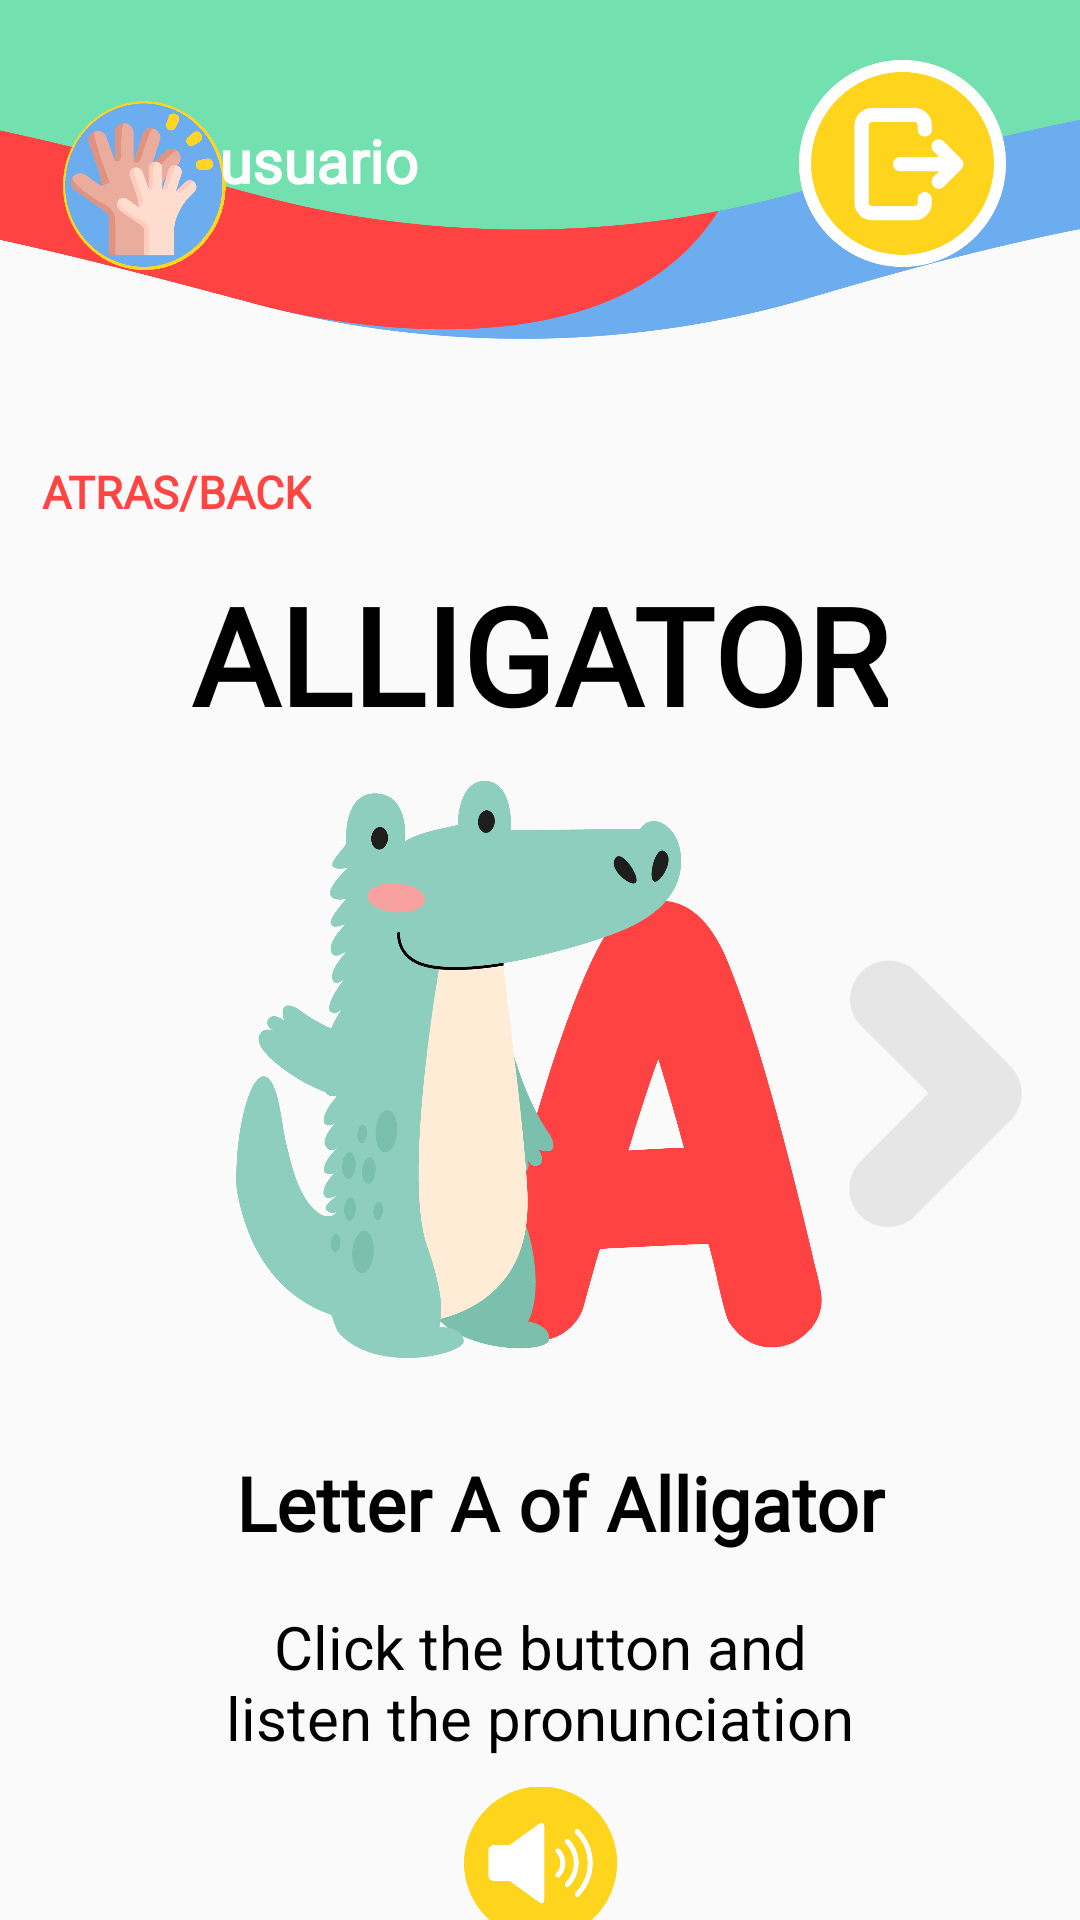

Icons on this 1080x1920 Android screen, each with the point to tap as (x,y):
salir: (902,163)
